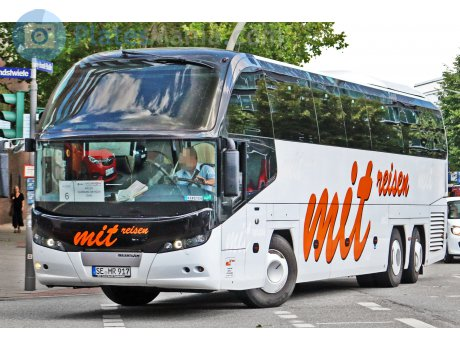License Plates: (95, 265, 127, 273)
